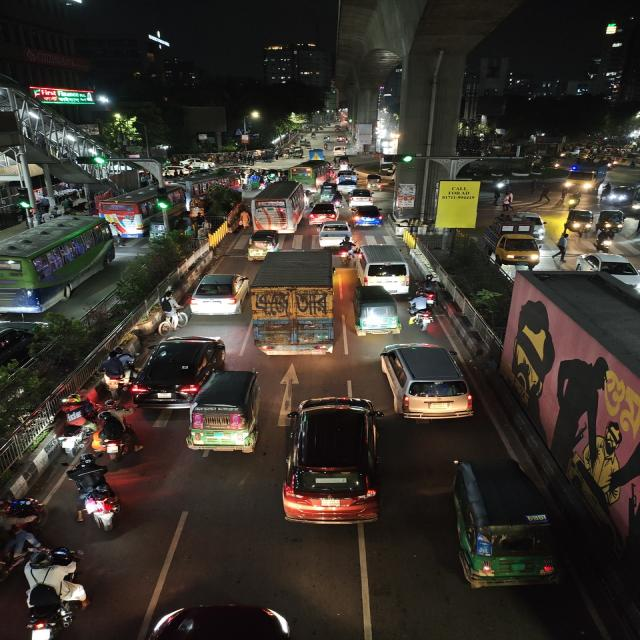bicycle: (156, 296, 188, 336)
bus: (0, 216, 118, 314), (252, 180, 307, 232), (100, 192, 166, 232), (176, 171, 243, 198), (290, 160, 331, 189)
car: (280, 394, 384, 534), (377, 339, 474, 424), (132, 332, 229, 407), (188, 267, 248, 318), (351, 243, 412, 293), (576, 252, 640, 296), (315, 222, 353, 246), (350, 203, 385, 227), (307, 202, 338, 223), (348, 188, 377, 206), (333, 145, 347, 156)
cng: (444, 457, 560, 593), (184, 368, 267, 458), (352, 285, 402, 337), (244, 229, 280, 261), (563, 207, 597, 238), (598, 208, 627, 234), (146, 217, 168, 243), (610, 187, 634, 206), (317, 182, 338, 203), (363, 173, 385, 191), (630, 192, 640, 216)
motorcycle: (19, 547, 84, 640), (64, 456, 125, 536), (91, 405, 135, 463), (52, 398, 97, 454), (0, 493, 47, 533), (96, 347, 135, 393), (406, 288, 440, 328), (592, 227, 616, 251), (560, 189, 584, 210), (337, 240, 358, 264)
pedestrian: (555, 231, 571, 257), (233, 208, 248, 232), (500, 190, 516, 210), (538, 184, 550, 206)
pickup_van: (483, 213, 546, 268), (336, 174, 357, 192)
truck: (249, 250, 341, 360), (564, 162, 610, 194)
